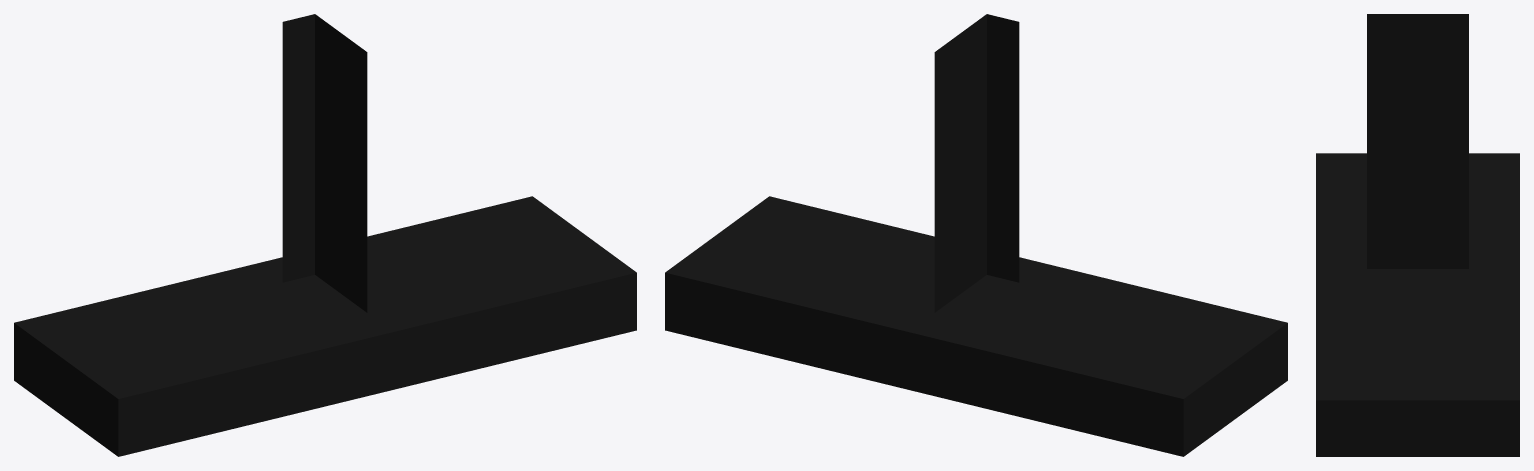
The model's file is Texture_UV_LightPlayTest_0.fbx.
3 renders of one model, left to right at view 1: azimuth 30°, elevation 25°; view 2: azimuth 150°, elevation 25°; view 3: azimuth 270°, elevation 25°, orthographic. The views are drawn at different scales.
Visible parts, largest first — view 1: farol; view 2: farol; view 3: farol.
Boxes of the visible parts, x1,y1,x2,y2 form: farol: [14, 14, 636, 456]; farol: [665, 14, 1287, 456]; farol: [1316, 14, 1519, 456].
Size of the model in its own units: 233 by 137 by 81.18.
